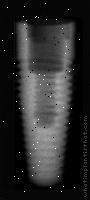Implant Direct: (13, 16, 83, 190)
